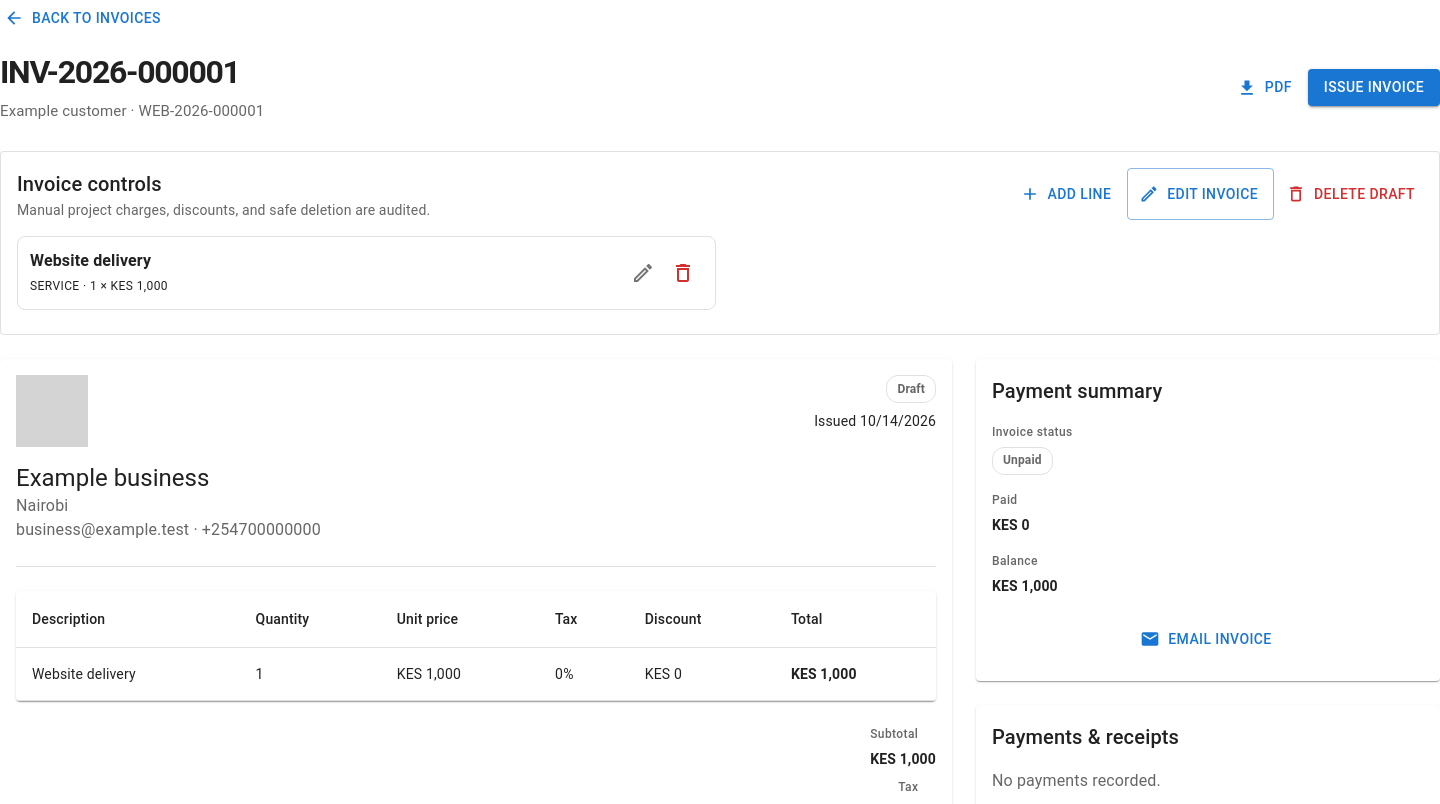
Test: digital manual billing and KRA feature gate › does not offer stock or labour items when editing a manual digital invoice
Click the button "Add line". click: (1067, 194)
box: left=1016, top=168, right=1119, bottom=220
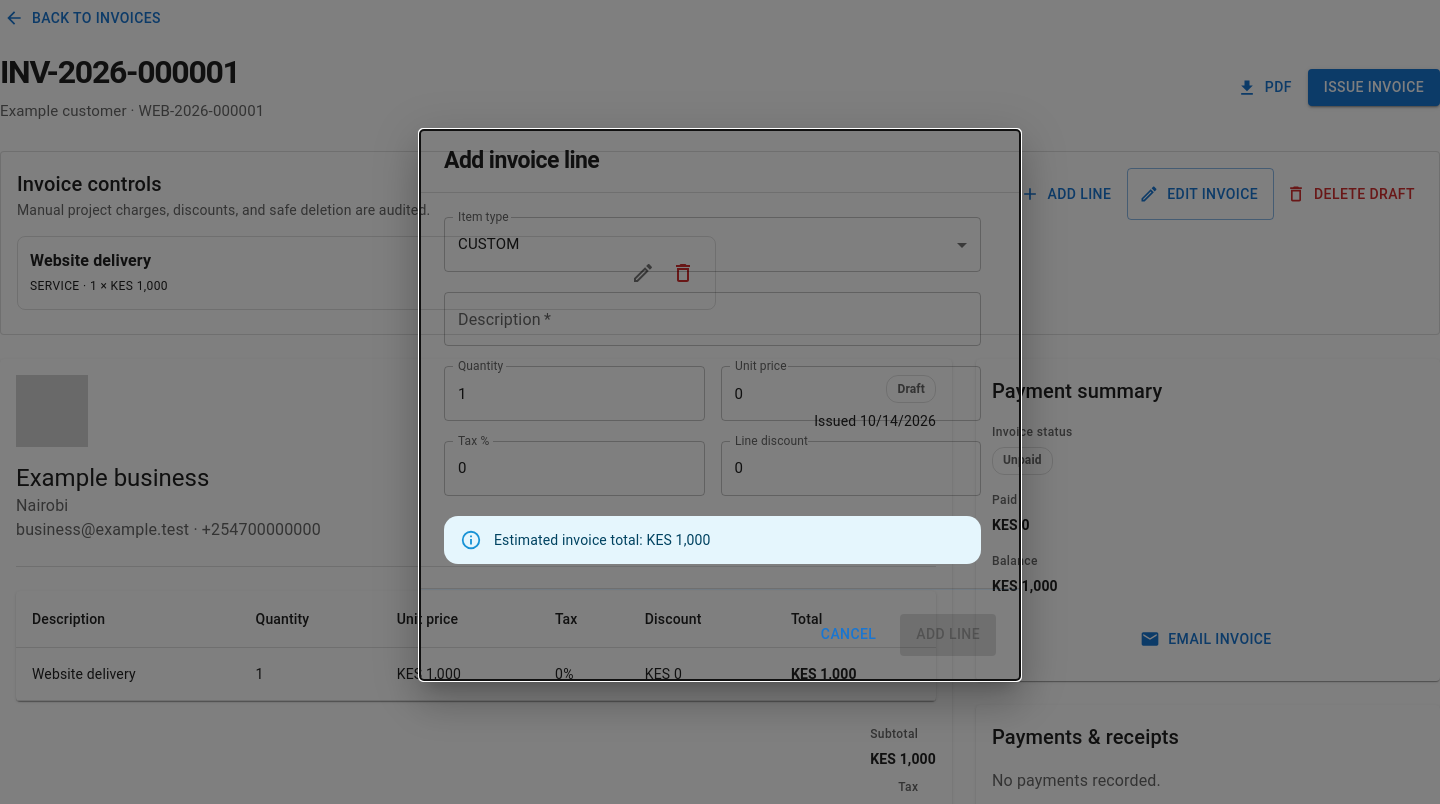
Press the mouse on the dropdown named "Item type" at (489, 244), box left=458, top=235, right=519, bottom=253
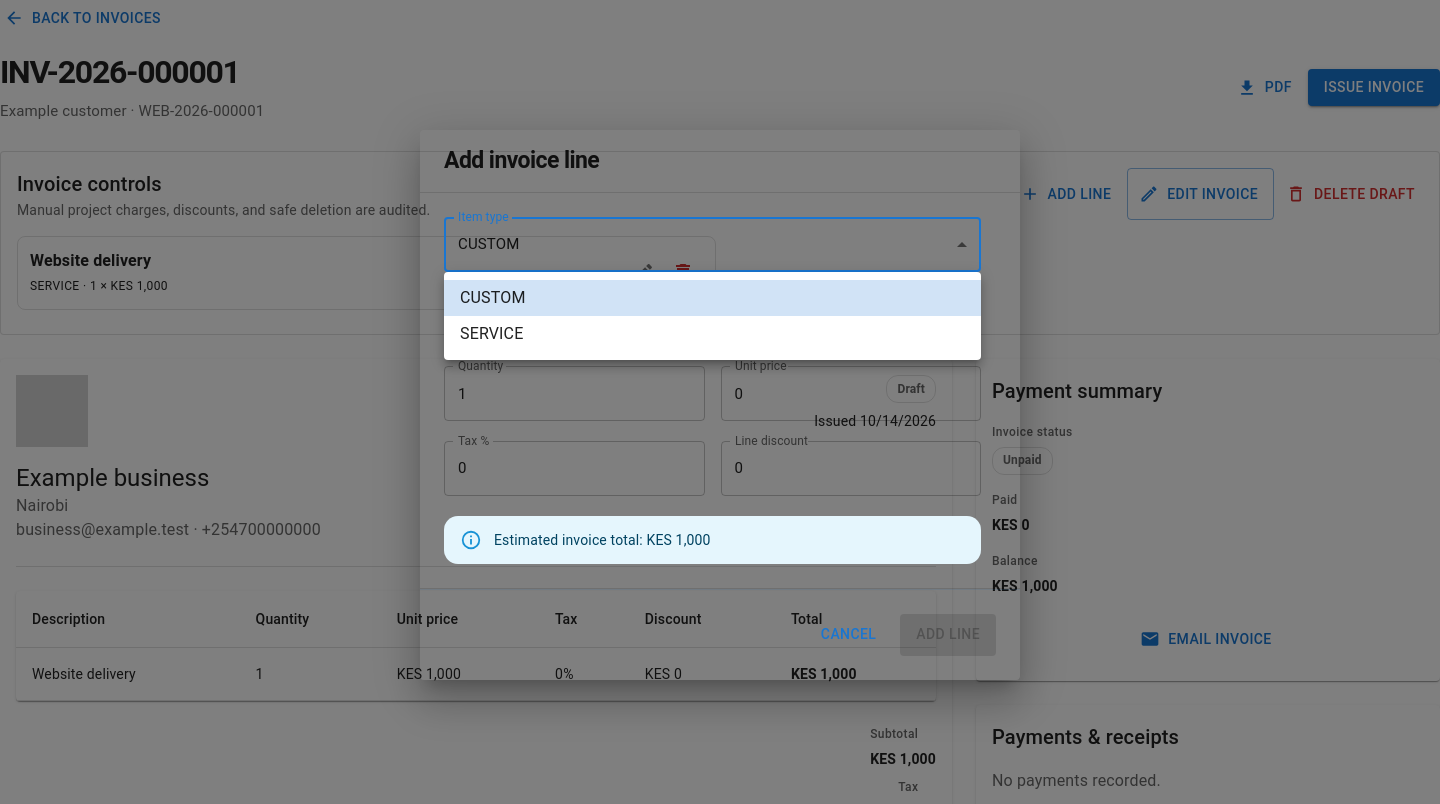
Check: the option "SERVICE" is shown, box left=460, top=324, right=523, bottom=343
Check: the option "CUSTOM" is shown, box left=444, top=280, right=981, bottom=316
